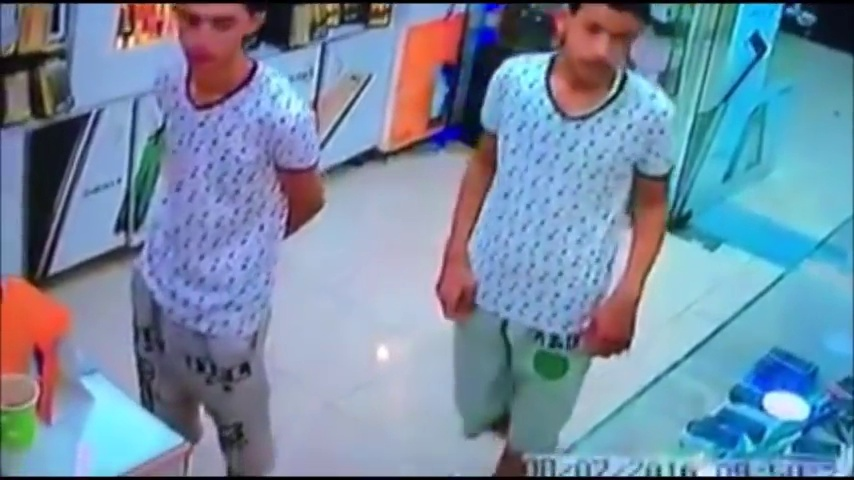face: (560, 7, 636, 86), (166, 4, 242, 76)
